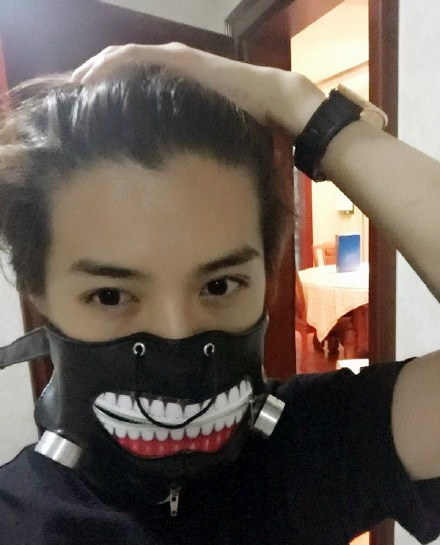face_mask: (46, 149, 270, 475)
